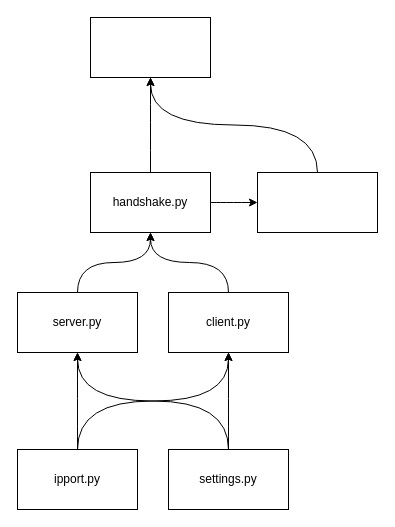
The diagram is 395 pixels wide and 527 high, and some of its shapes have lost their labels. The shapes that lost their labels are listed below. From the top down, each one's centre as x and y in pixels, then its label:
the point at 150,47: GUI.py
the point at 317,202: format.py
